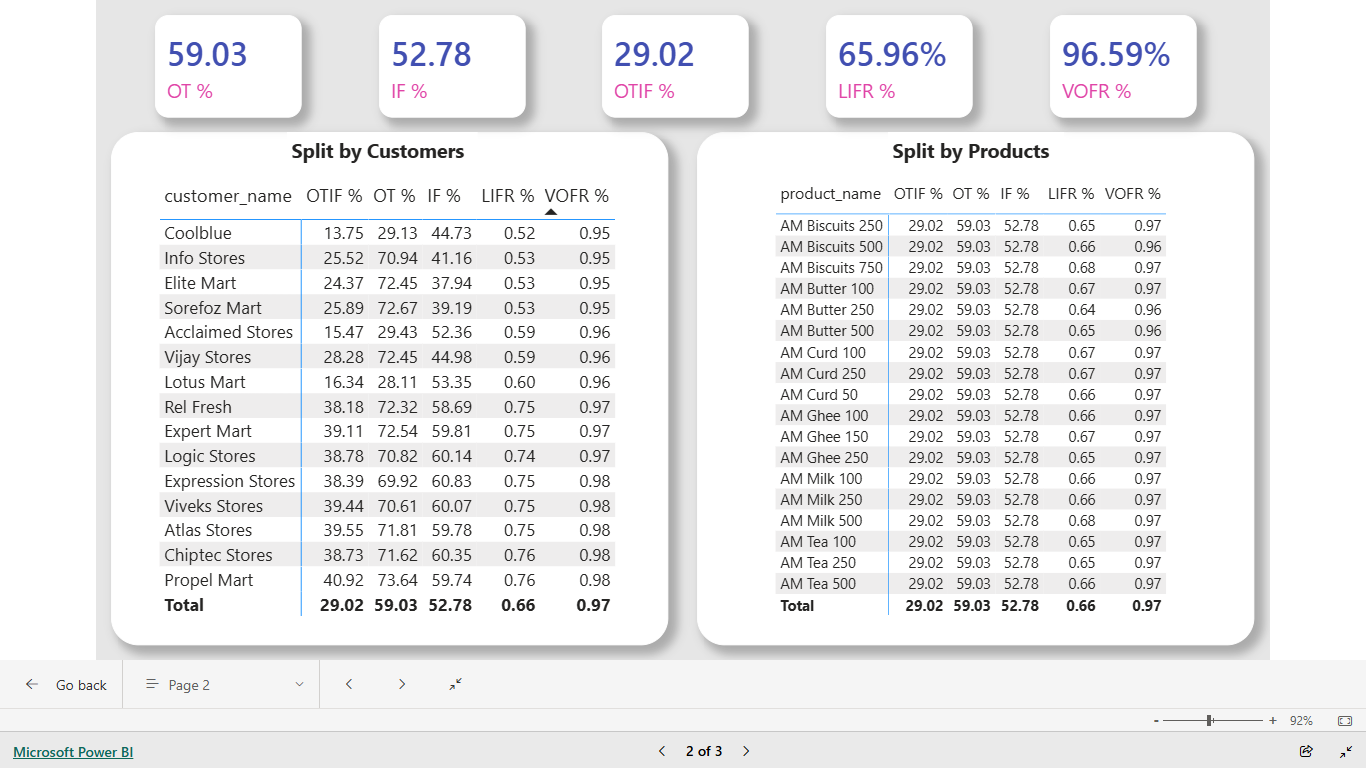

The dashboard page shown, as its layout file describes it:
{"tool":"powerbi","page":{"name":"Page 2","canvas":[1280,720],"ordinal":1},"visuals":[{"type":"shape","box":[16,144,608,560],"z":0},{"type":"shape","box":[656,144,608,560],"z":1000},{"type":"group","id":"g1","title":"Group 1","box":[64,16,1136,112],"z":2000},{"type":"cardVisual","fields":{"Data":["All Mesures.OT %"]},"box":[64,16,160,112],"z":2000,"group":"g1"},{"type":"cardVisual","fields":{"Data":["All Mesures.IF %"]},"box":[308,16,160,112],"z":3000,"group":"g1"},{"type":"pivotTable","fields":{"Rows":["dim_customers.customer_name"],"Values":["All Mesures.OTIF %","All Mesures.OT %","All Mesures.IF %","All Mesures.LIFR %","All Mesures.VOFR %"]},"box":[64,192,512,496],"z":3000},{"type":"cardVisual","fields":{"Data":["All Mesures.OTIF %"]},"box":[552,16,160,112],"z":4000,"group":"g1"},{"type":"pivotTable","fields":{"Rows":["dim_products.product_name"],"Values":["All Mesures.OTIF %","All Mesures.OT %","All Mesures.IF %","All Mesures.LIFR %","All Mesures.VOFR %"]},"box":[736,192,512,496],"z":4000},{"type":"cardVisual","fields":{"Data":["All Mesures.LIFR %"]},"box":[796,16,160,112],"z":5000,"group":"g1"},{"type":"textbox","box":[208,144,208,48],"z":5000},{"type":"cardVisual","fields":{"Data":["All Mesures.VOFR %"]},"box":[1040,16,160,112],"z":6000,"group":"g1"},{"type":"textbox","box":[864,144,192,48],"z":6000}]}

Visuals, with their boxes on the page's 1280x720 design canvas (x1, y1, x2, y2). These are canvas units, not pixel positions in the 1366x768 screenshot, which may show the page scaled, cropped or inside an application window:
shape: 16:144:624:704
shape: 656:144:1264:704
"Group 1" group: 64:16:1200:128
cardVisual - All Mesures.OT %: 64:16:224:128
cardVisual - All Mesures.IF %: 308:16:468:128
pivotTable - dim_customers.customer_name x All Mesures.OTIF %: 64:192:576:688
cardVisual - All Mesures.OTIF %: 552:16:712:128
pivotTable - dim_products.product_name x All Mesures.OTIF %: 736:192:1248:688
cardVisual - All Mesures.LIFR %: 796:16:956:128
textbox: 208:144:416:192
cardVisual - All Mesures.VOFR %: 1040:16:1200:128
textbox: 864:144:1056:192
